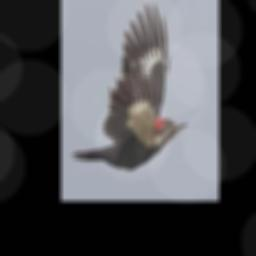Woodpecker: (72, 3, 188, 169)
